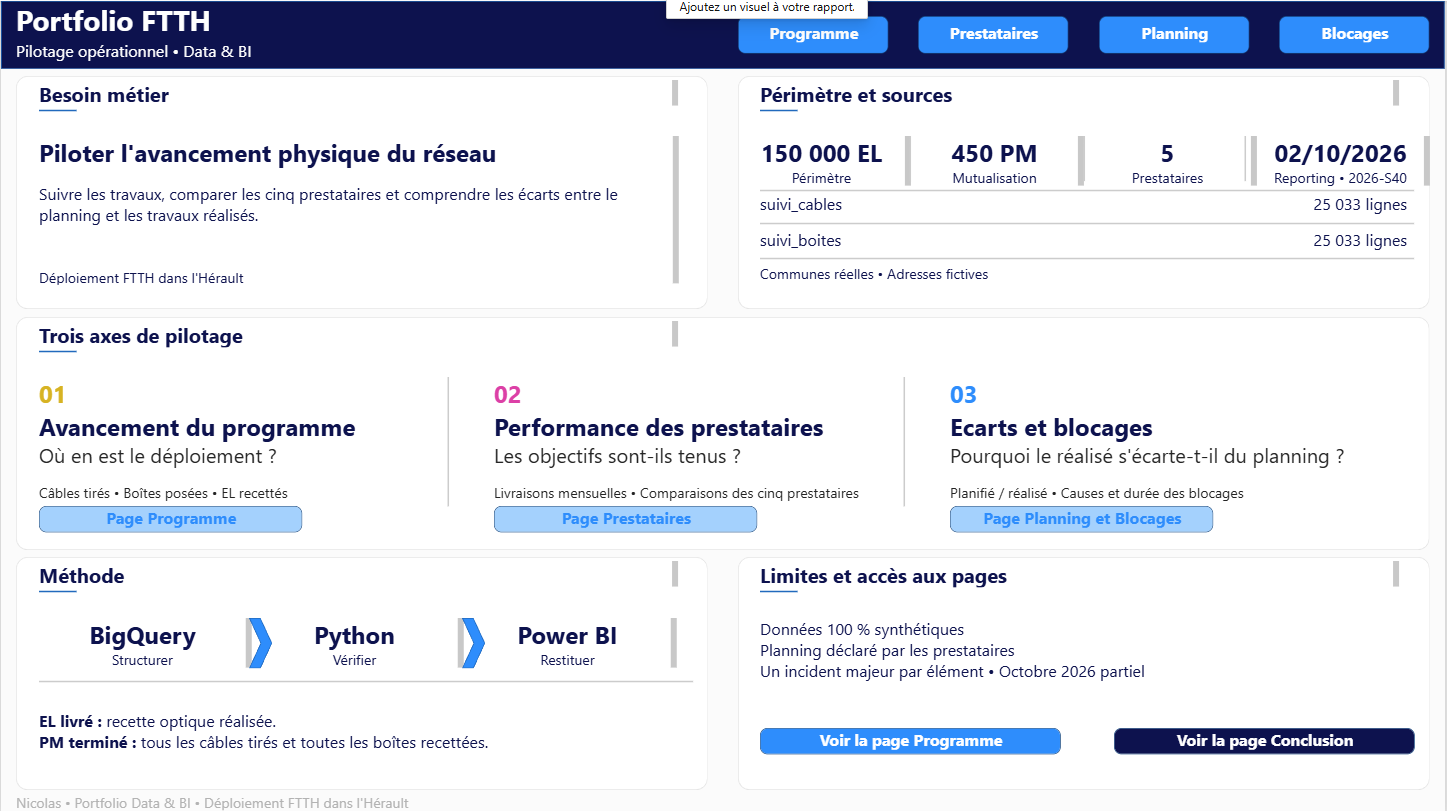

The dashboard page shown, as its layout file describes it:
{"tool":"powerbi","page":{"name":"Introduction","canvas":[1920,1080],"ordinal":0},"visuals":[{"type":"shape","box":[0,0,1920.1,90.5],"z":0},{"type":"textbox","title":"Portfolio FTTH","box":[20,0,1880,90],"z":1000},{"type":"textbox","title":"Programme","box":[980,20,200,50],"z":2000},{"type":"shape","box":[20,100,920,310],"z":3000},{"type":"shape","box":[980,100,920,310],"z":4000},{"type":"shape","box":[20,420,1880,310],"z":5000},{"type":"shape","box":[20,740,920,310],"z":6000},{"type":"shape","box":[980,740,920,310],"z":7000},{"type":"textbox","box":[50,105,850,35],"z":8000},{"type":"textbox","box":[50.7,179.2,850.5,198],"z":9000},{"type":"textbox","box":[1010,105,850,35],"z":10000},{"type":"textbox","box":[980,180,230,67],"z":11000},{"type":"textbox","box":[1210.7,180,230,67],"z":12000},{"type":"textbox","box":[1440.5,180,230,67],"z":13000},{"type":"textbox","box":[1670.3,180,230,67],"z":14000},{"type":"textbox","box":[1010,256,870.4,121.2],"z":15000},{"type":"shape","box":[1010,242,870,20],"z":16000},{"type":"shape","box":[1195,180,30,60],"z":17000},{"type":"shape","box":[1425.6,180,30,60],"z":18000},{"type":"shape","box":[1640,180,30,60],"z":19000},{"type":"textbox","box":[50,425,850,35],"z":20000},{"type":"textbox","box":[50,500,606,172],"z":21000},{"type":"textbox","title":"Page Programme","box":[50,672,350,35],"z":22000},{"type":"textbox","box":[656,500,606,172],"z":23000},{"type":"textbox","title":"Page Prestataires","box":[656,672,350,35],"z":24000},{"type":"textbox","box":[1262,500,606,172],"z":25000},{"type":"textbox","title":"Page Planning et Blocages","box":[1262,672,350,35],"z":26000},{"type":"shape","box":[580,500,30,172],"z":27000},{"type":"shape","box":[1186,500,30,172],"z":28000},{"type":"shape","box":[1010,286,870,20],"z":29000},{"type":"shape","box":[1010,332,870,20],"z":30000},{"type":"textbox","box":[50,745,850,35],"z":31000},{"type":"textbox","box":[50,820,283,67],"z":32000},{"type":"textbox","box":[333,820,283,67],"z":33000},{"type":"textbox","box":[616,820,283,67],"z":34000},{"type":"shape","box":[50,895.8,870,20],"z":35000},{"type":"textbox","box":[50.7,942.8,848.7,85.1],"z":36000},{"type":"shape","box":[330,820,30.8,67],"z":37000},{"type":"shape","box":[613,820,30.8,67],"z":38000},{"type":"textbox","box":[1010,745,850,35],"z":39000},{"type":"textbox","box":[1010,820,848.7,86],"z":40000},{"type":"textbox","title":"Voir la page Programme","box":[1010,967,400,35],"z":41000},{"type":"textbox","title":"Nicolas • Portfolio Data & BI • Déploiement FTTH dans l''Hérault","box":[20,1053,850,23],"z":42000},{"type":"textbox","title":"Prestataires","box":[1220,20,200,50],"z":43000},{"type":"textbox","title":"Planning","box":[1460,20,200,50],"z":44000},{"type":"textbox","title":"Blocages","box":[1700,19.9,200,50],"z":45000},{"type":"shape","box":[50,140,50,12],"z":46000},{"type":"shape","box":[1010,140,50,12],"z":47000},{"type":"shape","box":[50,460,50,12],"z":48000},{"type":"shape","box":[50,780,50,12],"z":49000},{"type":"shape","box":[1010,780,50,12],"z":50000},{"type":"actionButton","box":[980,20,200,50],"z":51000},{"type":"actionButton","box":[1220,20,200,50],"z":52000},{"type":"actionButton","box":[1460,20,200,50],"z":53000},{"type":"actionButton","box":[1700,20,200,50],"z":54000},{"type":"actionButton","box":[1010,967,400,35],"z":55000},{"type":"textbox","title":"Voir la page Conclusion","box":[1480.3,967,400,35],"z":56000},{"type":"actionButton","box":[1480,967,400,35],"z":57000}]}

Visuals, with their boxes on the page's 1920x1080 design canvas (x1, y1, x2, y2). These are canvas units, not pixel positions in the 1447x811 screenshot, which may show the page scaled, cropped or inside an application window:
shape: 0/0/1920/90
"Portfolio FTTH" textbox: 20/0/1900/90
"Programme" textbox: 980/20/1180/70
shape: 20/100/940/410
shape: 980/100/1900/410
shape: 20/420/1900/730
shape: 20/740/940/1050
shape: 980/740/1900/1050
textbox: 50/105/900/140
textbox: 51/179/901/377
textbox: 1010/105/1860/140
textbox: 980/180/1210/247
textbox: 1211/180/1441/247
textbox: 1440/180/1670/247
textbox: 1670/180/1900/247
textbox: 1010/256/1880/377
shape: 1010/242/1880/262
shape: 1195/180/1225/240
shape: 1426/180/1456/240
shape: 1640/180/1670/240
textbox: 50/425/900/460
textbox: 50/500/656/672
"Page Programme" textbox: 50/672/400/707
textbox: 656/500/1262/672
"Page Prestataires" textbox: 656/672/1006/707
textbox: 1262/500/1868/672
"Page Planning et Blocages" textbox: 1262/672/1612/707
shape: 580/500/610/672
shape: 1186/500/1216/672
shape: 1010/286/1880/306
shape: 1010/332/1880/352
textbox: 50/745/900/780
textbox: 50/820/333/887
textbox: 333/820/616/887
textbox: 616/820/899/887
shape: 50/896/920/916
textbox: 51/943/899/1028
shape: 330/820/361/887
shape: 613/820/644/887
textbox: 1010/745/1860/780
textbox: 1010/820/1859/906
"Voir la page Programme" textbox: 1010/967/1410/1002
"Nicolas • Portfolio Data & BI • Déploiement FTTH dans l''Hérault" textbox: 20/1053/870/1076
"Prestataires" textbox: 1220/20/1420/70
"Planning" textbox: 1460/20/1660/70
"Blocages" textbox: 1700/20/1900/70
shape: 50/140/100/152
shape: 1010/140/1060/152
shape: 50/460/100/472
shape: 50/780/100/792
shape: 1010/780/1060/792
actionButton: 980/20/1180/70
actionButton: 1220/20/1420/70
actionButton: 1460/20/1660/70
actionButton: 1700/20/1900/70
actionButton: 1010/967/1410/1002
"Voir la page Conclusion" textbox: 1480/967/1880/1002
actionButton: 1480/967/1880/1002
